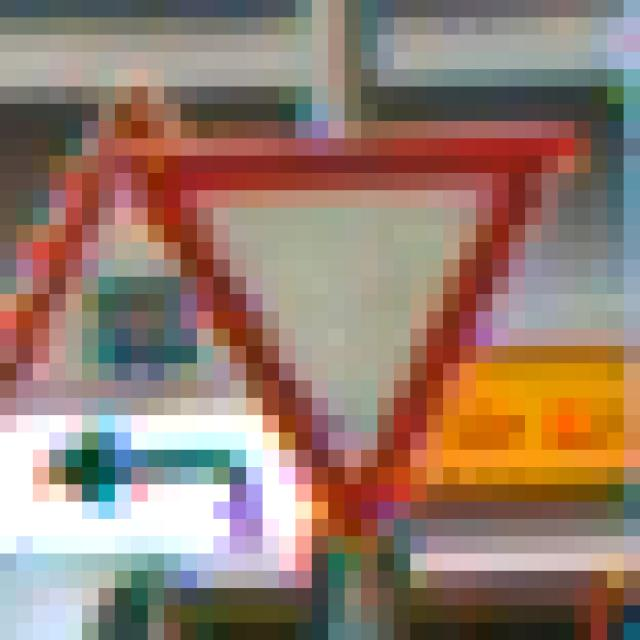Give Way: (99, 88, 559, 555)
